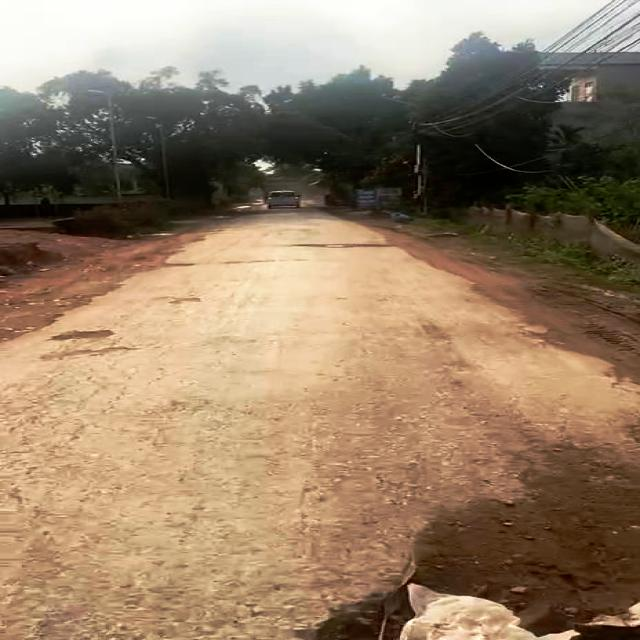pothole: (302, 492, 640, 640)
